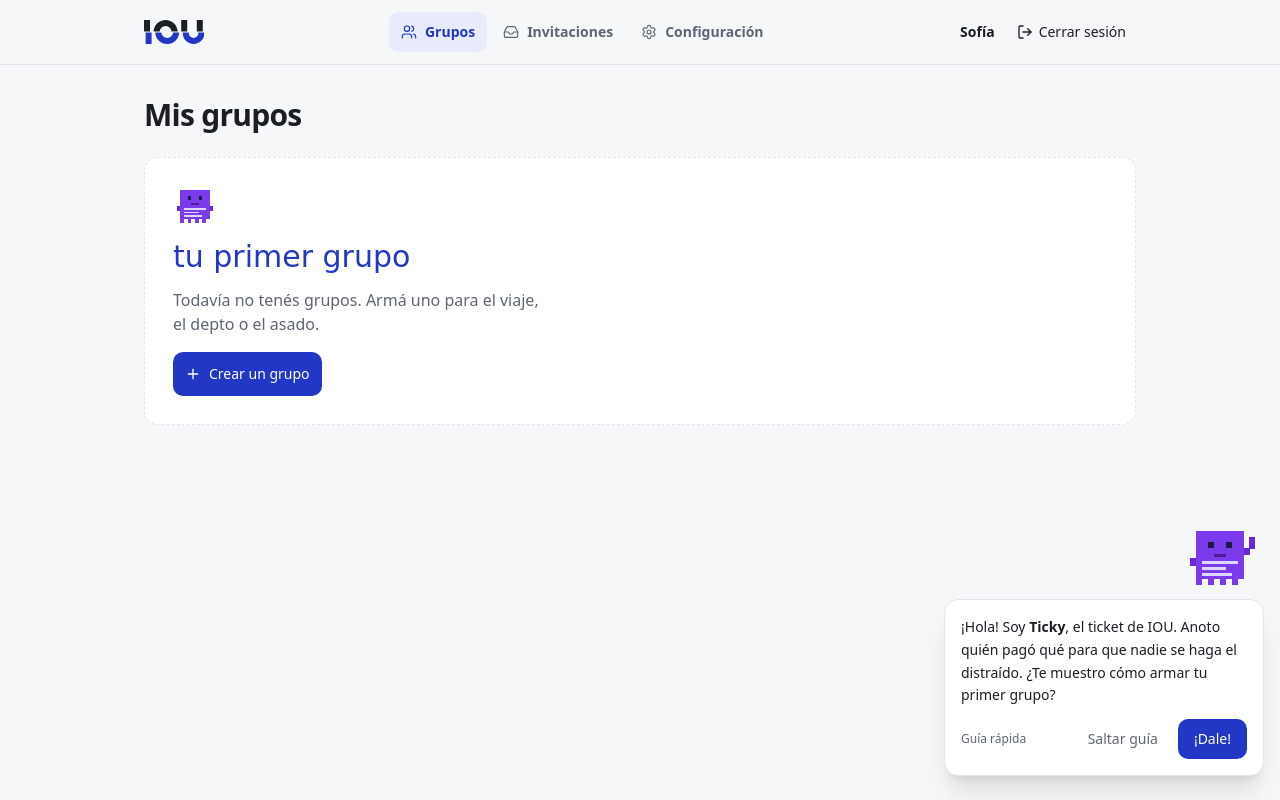
Test: Guía de primer uso (HU-38) › "Saltar guía" la cierra y guarda tutorialVisto
Click the button "Saltar guía" at (1123, 739), box x1=1072 y1=719 x2=1174 y2=759
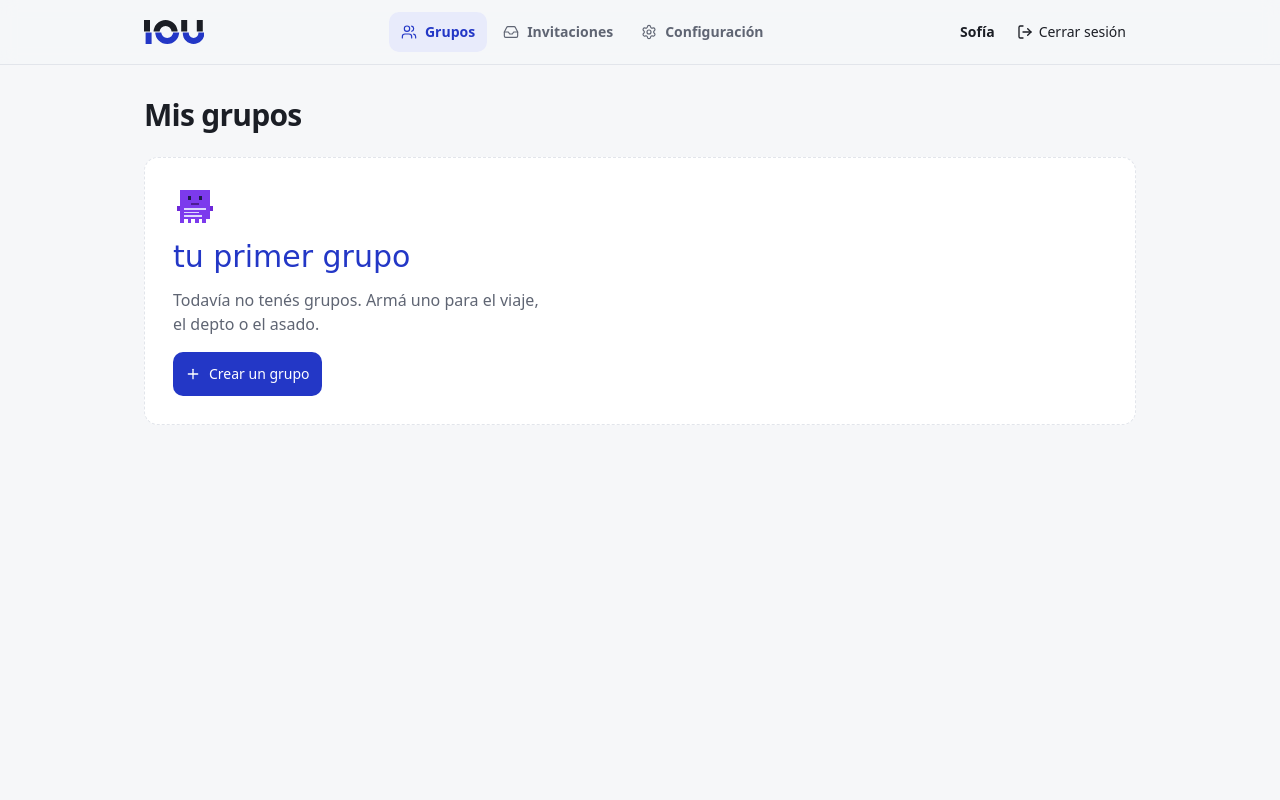
Now the text "el ticket de IOU" is gone
